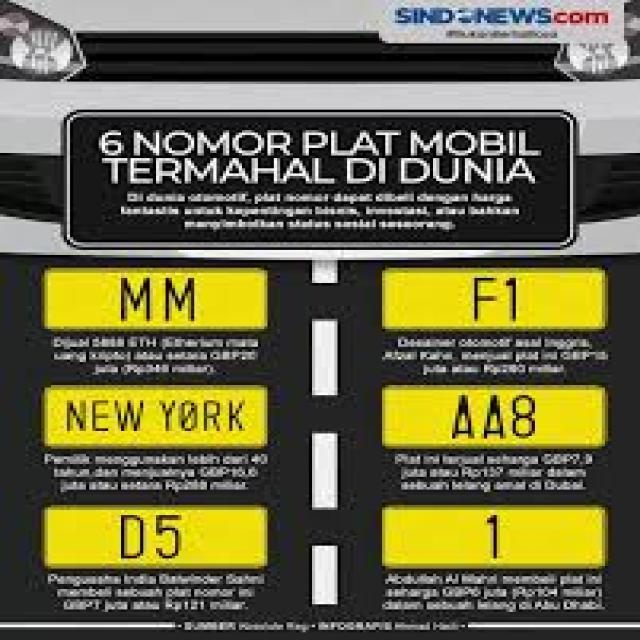lisence-plate: (70, 111, 580, 248)
